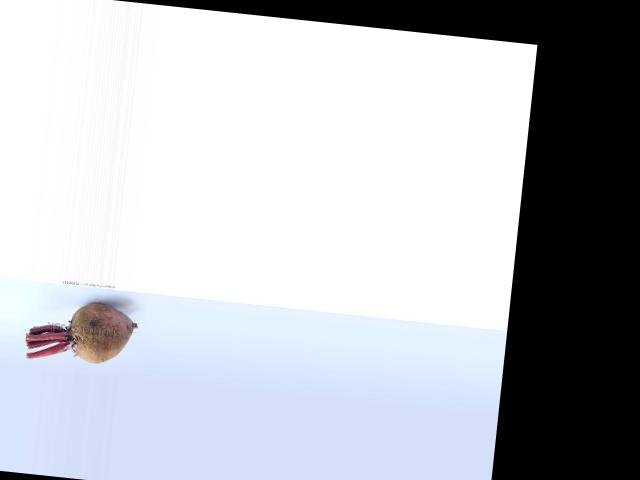beet: (25, 296, 137, 367)
